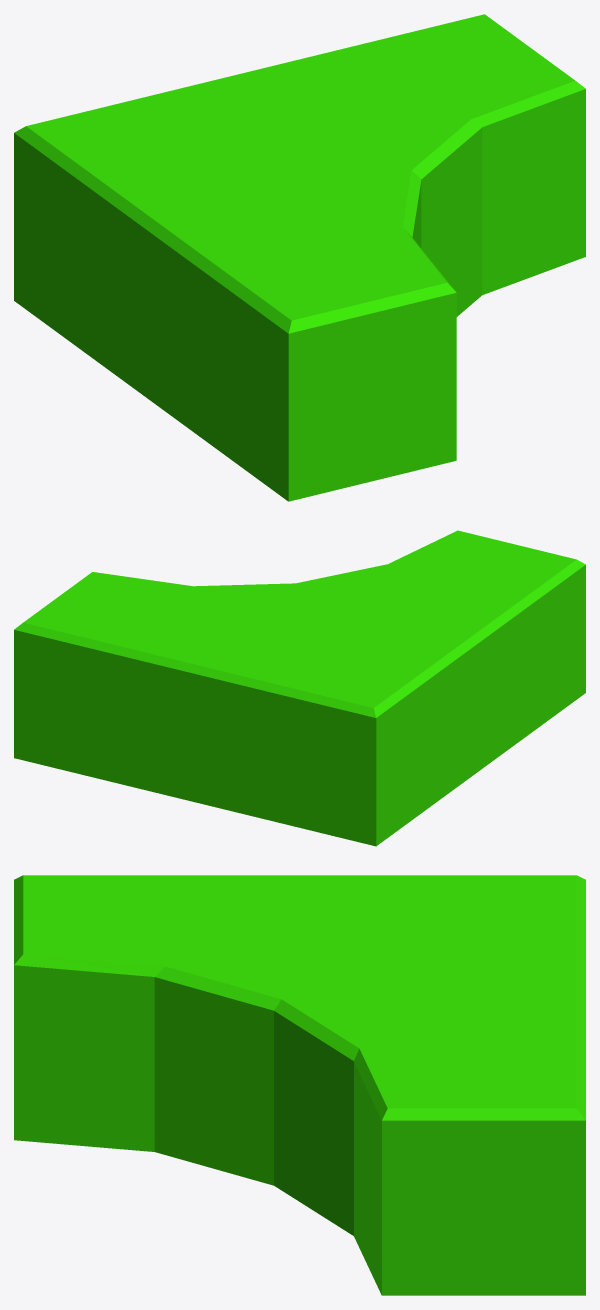
Rendered from round_3x1_03.fbx.
The picture shows the model from 3 angles, top to bottom: view 1: azimuth 30°, elevation 25°; view 2: azimuth 150°, elevation 25°; view 3: azimuth 270°, elevation 25°; orthographic projection. The views are drawn at different scales.
Parts seen in each view (by area): view 1: round_3x1_03; view 2: round_3x1_03; view 3: round_3x1_03.
Part boxes in pixels (box(x1,y1,x2,y2)): round_3x1_03: box(14, 14, 585, 501); round_3x1_03: box(14, 530, 585, 846); round_3x1_03: box(14, 875, 585, 1295).
Bounding box in the file's own units: 310 × 110 × 311.
